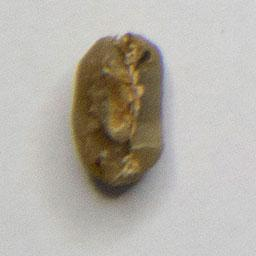premium: (68, 29, 169, 191)
